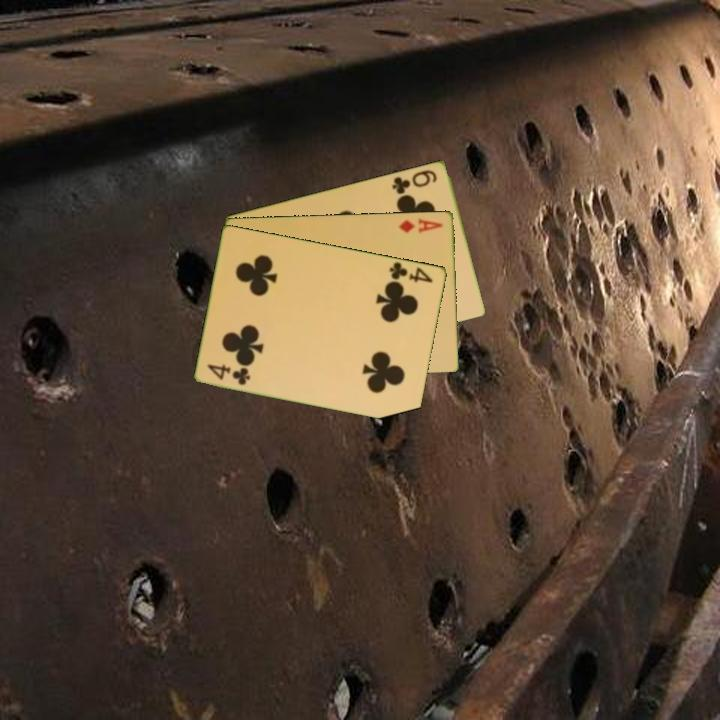4c: (204, 360, 254, 388), (386, 258, 436, 285)
6c: (389, 166, 440, 197)
Ad: (395, 214, 446, 236)
